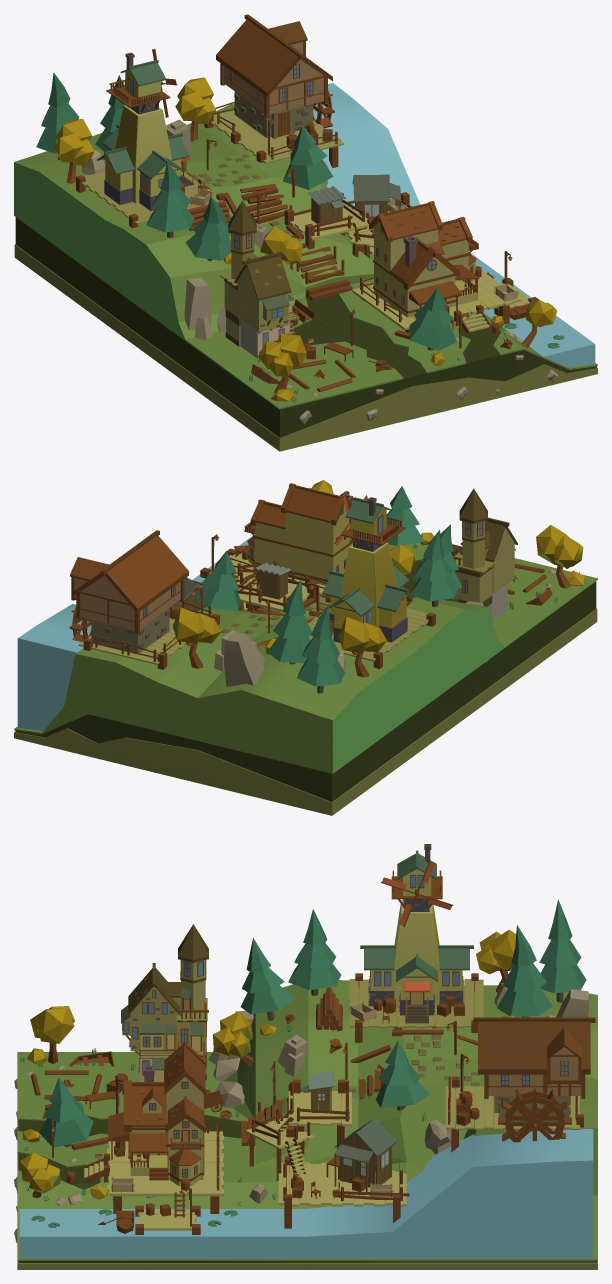
Rendered from environment.gltf.
The picture shows the model from 3 angles, top to bottom: view 1: azimuth 30°, elevation 25°; view 2: azimuth 150°, elevation 25°; view 3: azimuth 270°, elevation 25°; orthographic projection. The views are drawn at different scales.
Parts seen in each view (by area): view 1: Soil, Tree_2, B_House_1, B_House_5, Water, B_House_4, Tree_1, B_House_3, Wood, Rock, Wood_floor_1, Wood_floor_3 (+12 smaller); view 2: Soil, Tree_2, B_House_5, B_House_1, B_House_4, Water, Tree_1, B_House_3, Rock, Wood_floor_3, Wood_floor_2, Wood_floor_4 (+7 smaller); view 3: Soil, Water, Tree_2, B_House_1, B_House_5, Wood_floor_2, B_House_4, Wood_floor_1, Tree_1, B_House_3, Rock, Wood (+19 smaller).
Boxes of the visible parts, x1=… form: Soil: x1=14, y1=103, x2=597, y2=451; Tree_2: x1=36, y1=72, x2=456, y2=350; B_House_1: x1=369, y1=201, x2=479, y2=317; B_House_5: x1=216, y1=14, x2=332, y2=138; Water: x1=313, y1=83, x2=595, y2=367; B_House_4: x1=97, y1=52, x2=194, y2=210; Tree_1: x1=53, y1=77, x2=556, y2=393; B_House_3: x1=224, y1=200, x2=292, y2=358; Wood: x1=181, y1=161, x2=409, y2=391; Rock: x1=82, y1=119, x2=557, y2=423; Wood_floor_1: x1=352, y1=266, x2=538, y2=333; Wood_floor_3: x1=204, y1=101, x2=344, y2=167; Soil: x1=14, y1=542, x2=597, y2=815; Tree_2: x1=192, y1=486, x2=462, y2=693; B_House_5: x1=70, y1=530, x2=188, y2=654; B_House_1: x1=244, y1=483, x2=353, y2=585; B_House_4: x1=322, y1=497, x2=414, y2=642; Water: x1=17, y1=535, x2=252, y2=731; Tree_1: x1=172, y1=480, x2=583, y2=677; B_House_3: x1=454, y1=488, x2=517, y2=621; Rock: x1=214, y1=570, x2=555, y2=686; Wood_floor_3: x1=78, y1=600, x2=219, y2=669; Wood_floor_2: x1=192, y1=560, x2=316, y2=611; Wood_floor_4: x1=307, y1=608, x2=436, y2=668; Soil: x1=17, y1=980, x2=597, y2=1269; Water: x1=19, y1=1129, x2=593, y2=1258; Tree_2: x1=39, y1=899, x2=586, y2=1147; B_House_1: x1=108, y1=1042, x2=205, y2=1186; B_House_5: x1=473, y1=1017, x2=595, y2=1121; Wood_floor_2: x1=245, y1=1079, x2=409, y2=1228; B_House_4: x1=360, y1=844, x2=473, y2=1023; Wood_floor_1: x1=83, y1=1119, x2=223, y2=1234; Tree_1: x1=20, y1=929, x2=516, y2=1198; B_House_3: x1=122, y1=924, x2=208, y2=1081; Rock: x1=14, y1=982, x2=588, y2=1242; Wood: x1=31, y1=987, x2=477, y2=1150.
Size of the model in its own units: 8.2 by 6.08 by 11.72.
38 materials, 38 textured.
